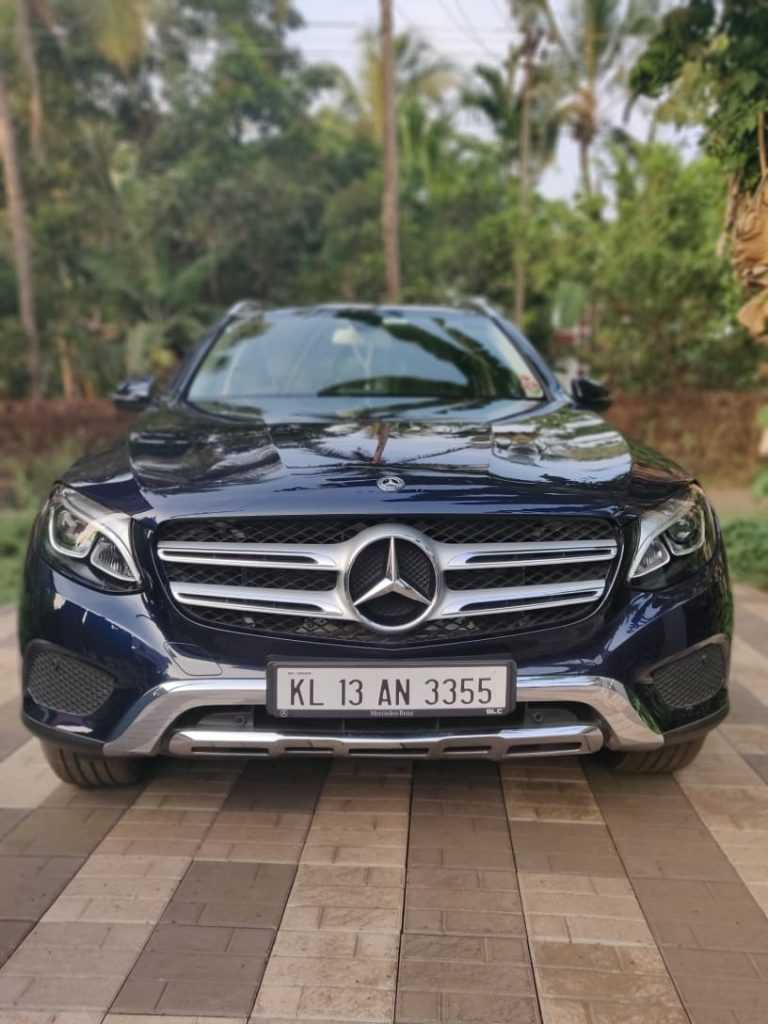number_plate: (265, 653, 520, 721)
